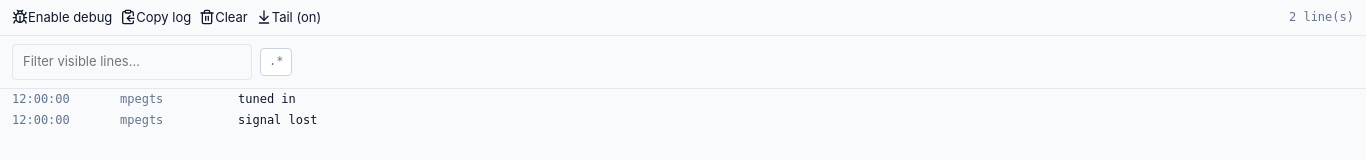
Test case: LogView — clear filters › resets the active filters when clicked
In the search field with placeholder "Filter visible lines…": {"x": 132, "y": 62} [12,44,252,80], type "tuned"
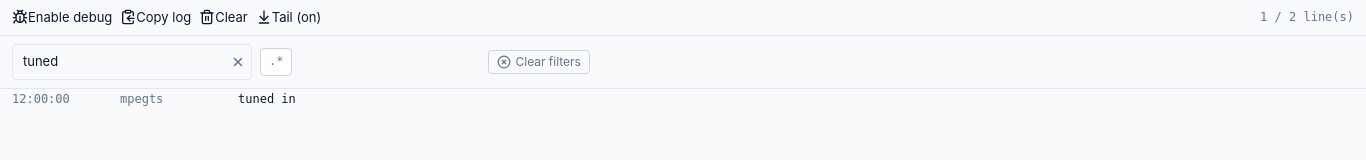
Result: the number of elements with class "log-view__line" is 1 at [12,92,296,106]
Click the button with class "log-view__clear-filters": {"x": 539, "y": 62} [488,50,590,74]
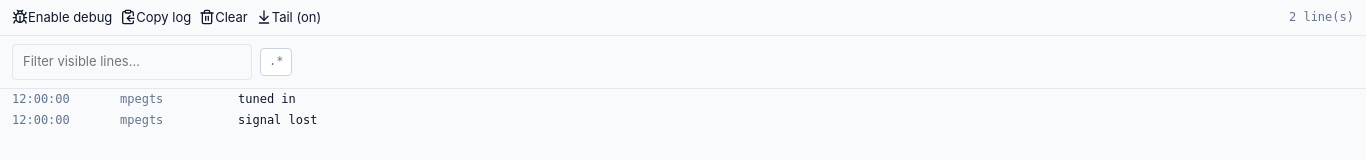
Result: the number of elements with class "log-view__line" is 2 at [12,92,296,106]; [12,113,318,127]
